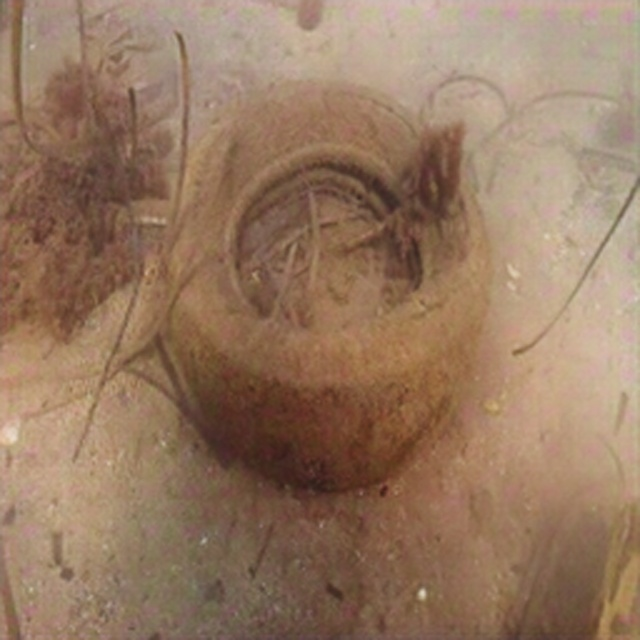mine: (163, 79, 491, 493)
